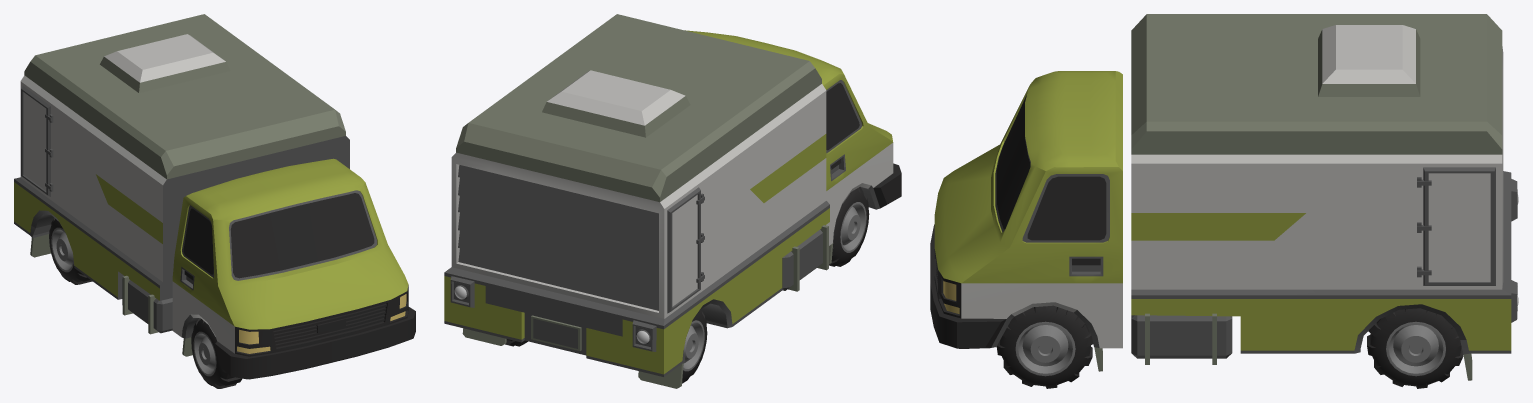
The model's file is S_VehicleTruck.gltf.
3 views of the same model, side by side, from view 1: azimuth 30°, elevation 25°; view 2: azimuth 150°, elevation 25°; view 3: azimuth 270°, elevation 25° (orthographic). The views are drawn at different scales.
Visible parts, largest first — view 1: Cylinder_030-col, Cylinder_000-col, Cylinder_001-col; view 2: Cylinder_030-col, Cylinder_000-col, Cylinder_001-col; view 3: Cylinder_030-col, Cylinder_002-col, Cylinder_001-col.
Boxes of the visible parts, left/top/right/bottom form: Cylinder_030-col: left=14, top=14, right=415, bottom=379; Cylinder_000-col: left=191, top=318, right=241, bottom=388; Cylinder_001-col: left=49, top=218, right=92, bottom=284; Cylinder_030-col: left=444, top=14, right=901, bottom=388; Cylinder_000-col: left=829, top=187, right=869, bottom=266; Cylinder_001-col: left=505, top=309, right=707, bottom=383; Cylinder_030-col: left=930, top=14, right=1518, bottom=380; Cylinder_002-col: left=996, top=305, right=1093, bottom=388; Cylinder_001-col: left=1367, top=308, right=1463, bottom=388.
Bounding box in the file's own units: 2.71 × 2.88 × 5.26.
3 materials, 1 textured.
